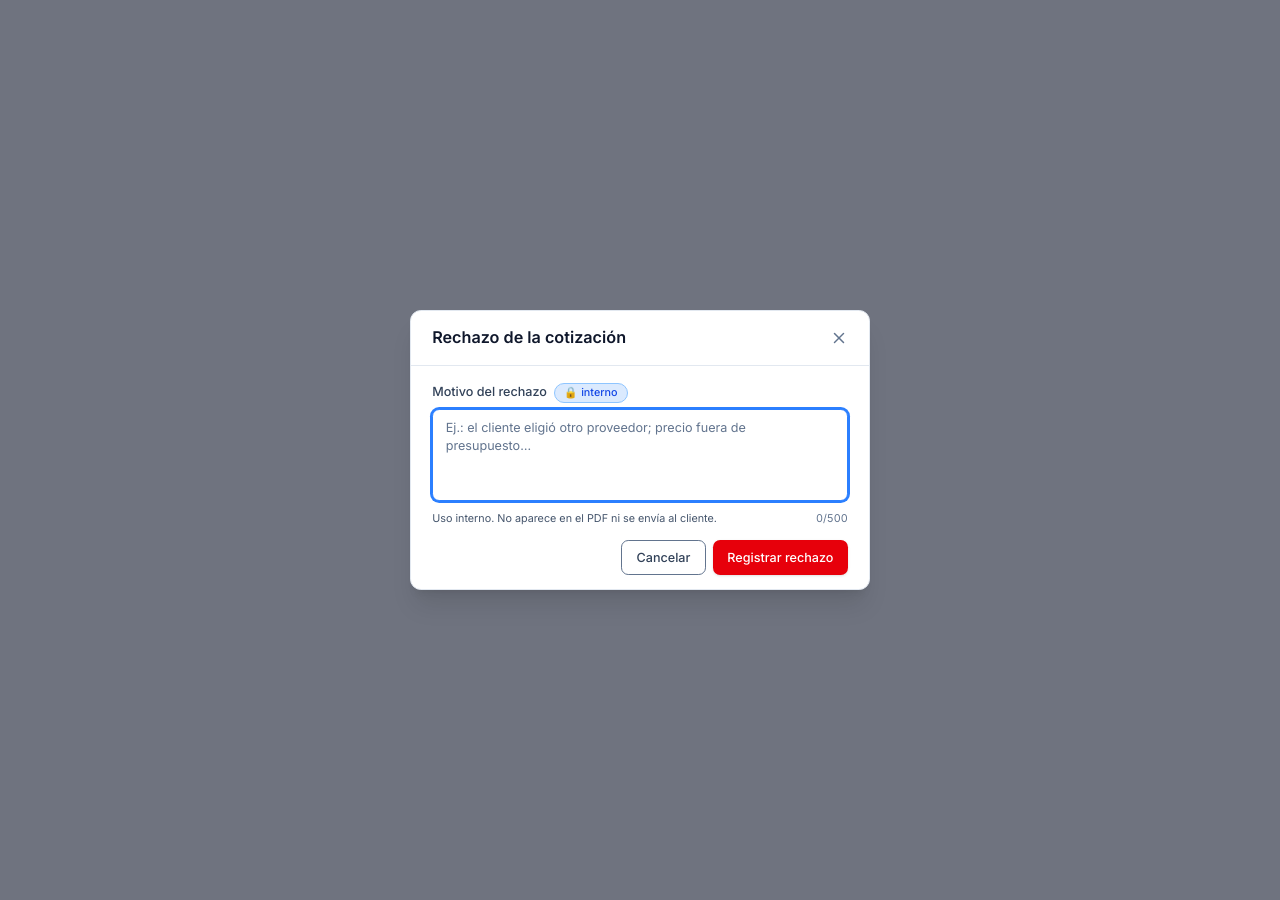
it: RejectQuotationModal › 400 (motivo inválido) → error inline en el campo (no delega al padre)
This screenshot has width=1280, height=900.
Type "algo" into the text box labelled "Motivo del rechazo". click: [640, 455]
box: [432,409,848,501]
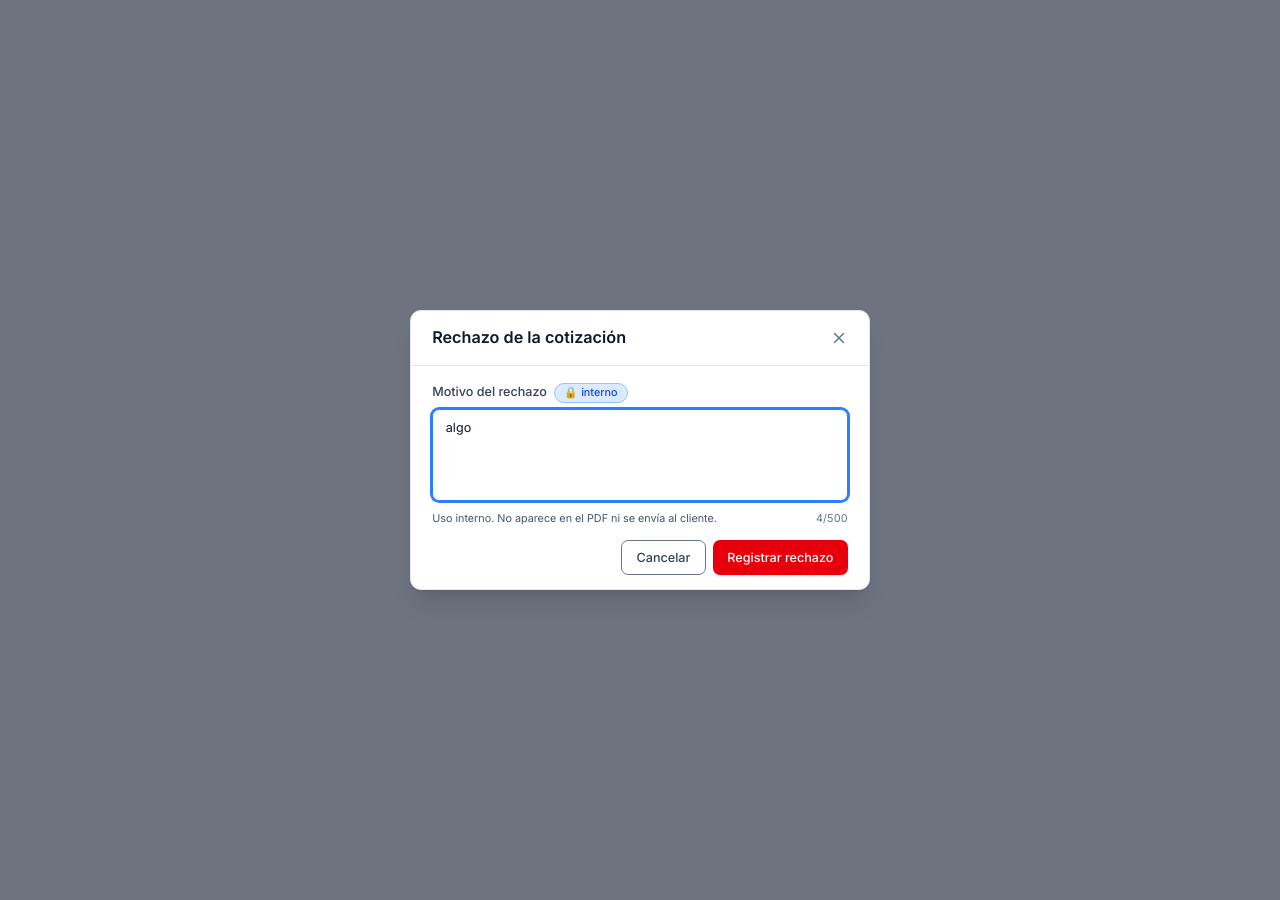
Click the button "Registrar rechazo". click: [780, 558]
box: [713,540,848,575]
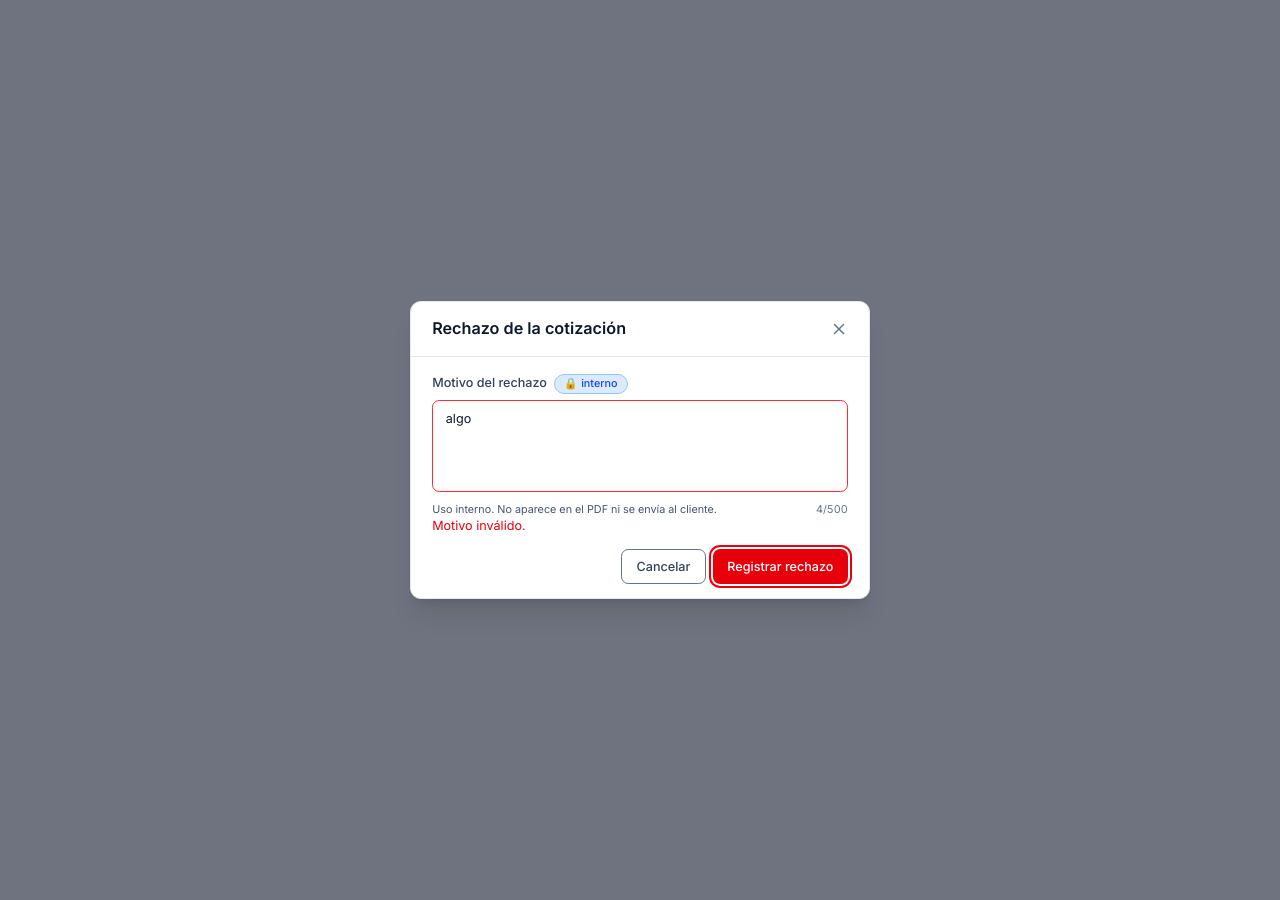
Check: the text "Motivo inválido." is shown, box [432,518,526,533]
